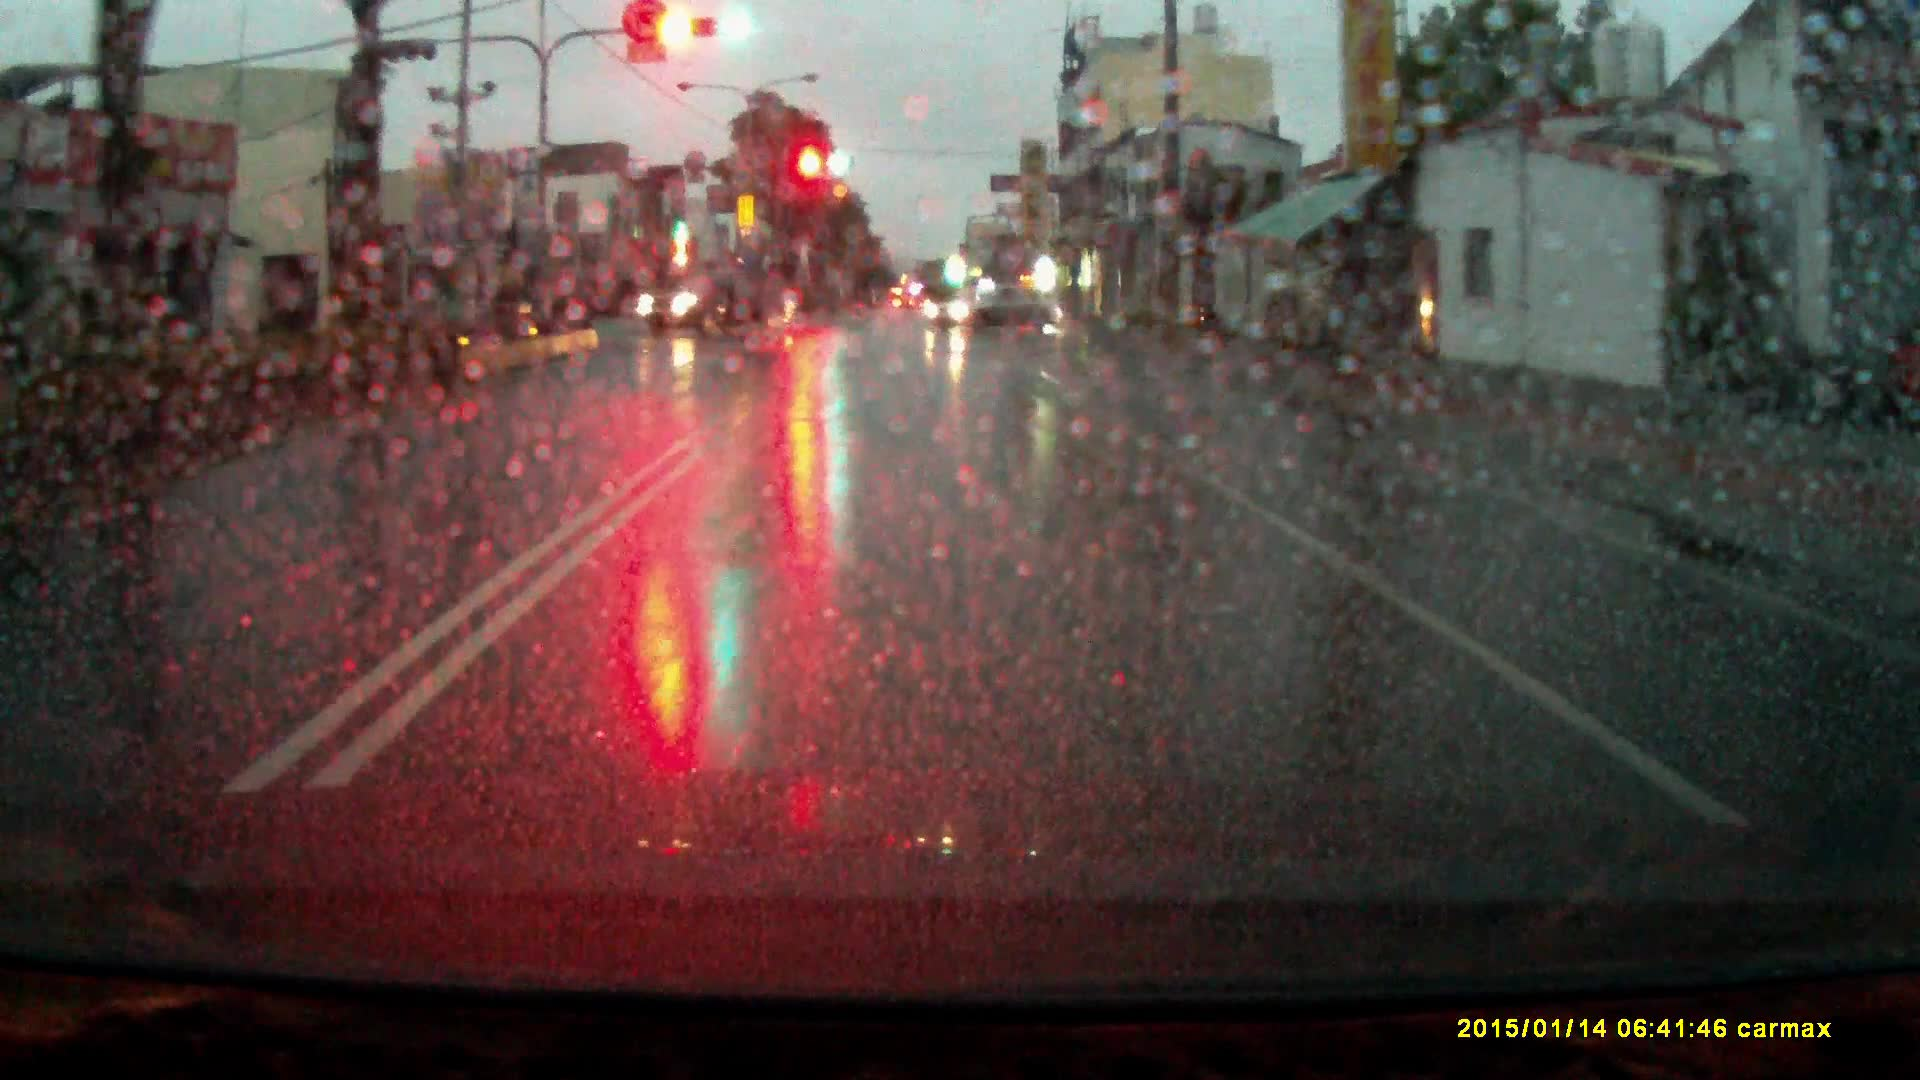vehicle: (638, 274, 798, 342), (915, 289, 1059, 339)
